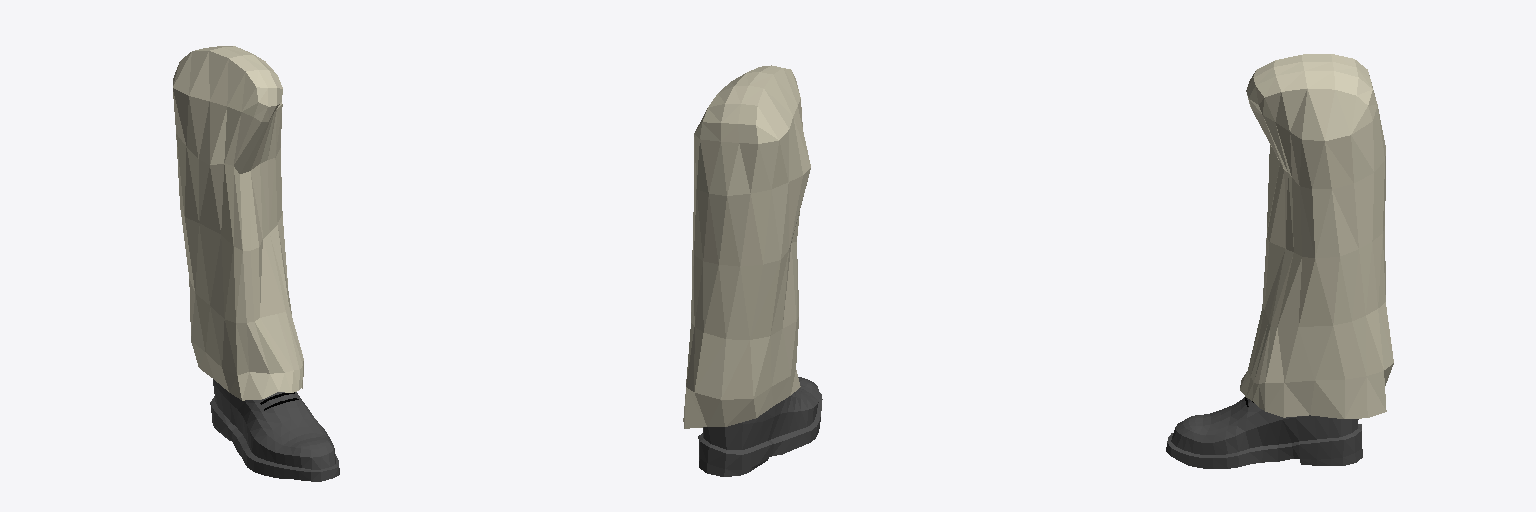
The picture shows the model from 3 angles: view 1: azimuth 30°, elevation 25°; view 2: azimuth 150°, elevation 25°; view 3: azimuth 270°, elevation 25°; orthographic projection.
Parts seen in each view (by area): view 1: polySurface12; view 2: polySurface12; view 3: polySurface12.
Part boxes in pixels (x1,y1,x2,y2): polySurface12: (173, 46, 339, 481); polySurface12: (683, 65, 822, 476); polySurface12: (1166, 54, 1393, 468).
Size of the model in its own units: 0.1535 by 0.5989 by 0.32.
Materials: 3 (2 with a texture image).